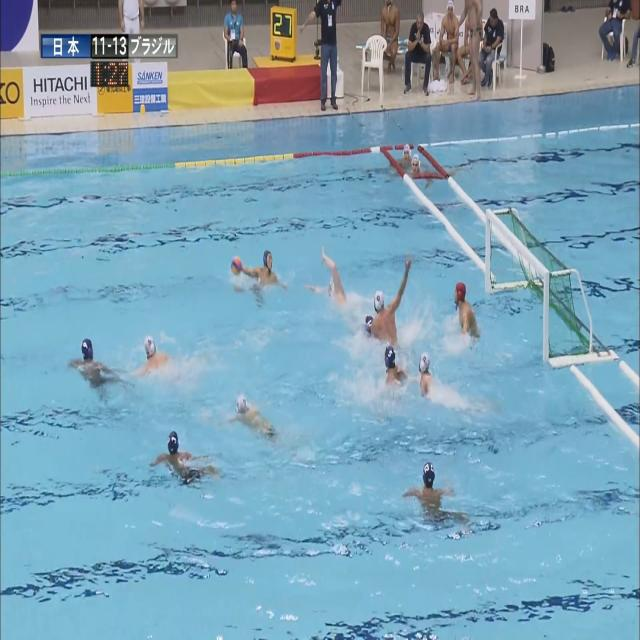ball: (231, 256, 241, 275)
